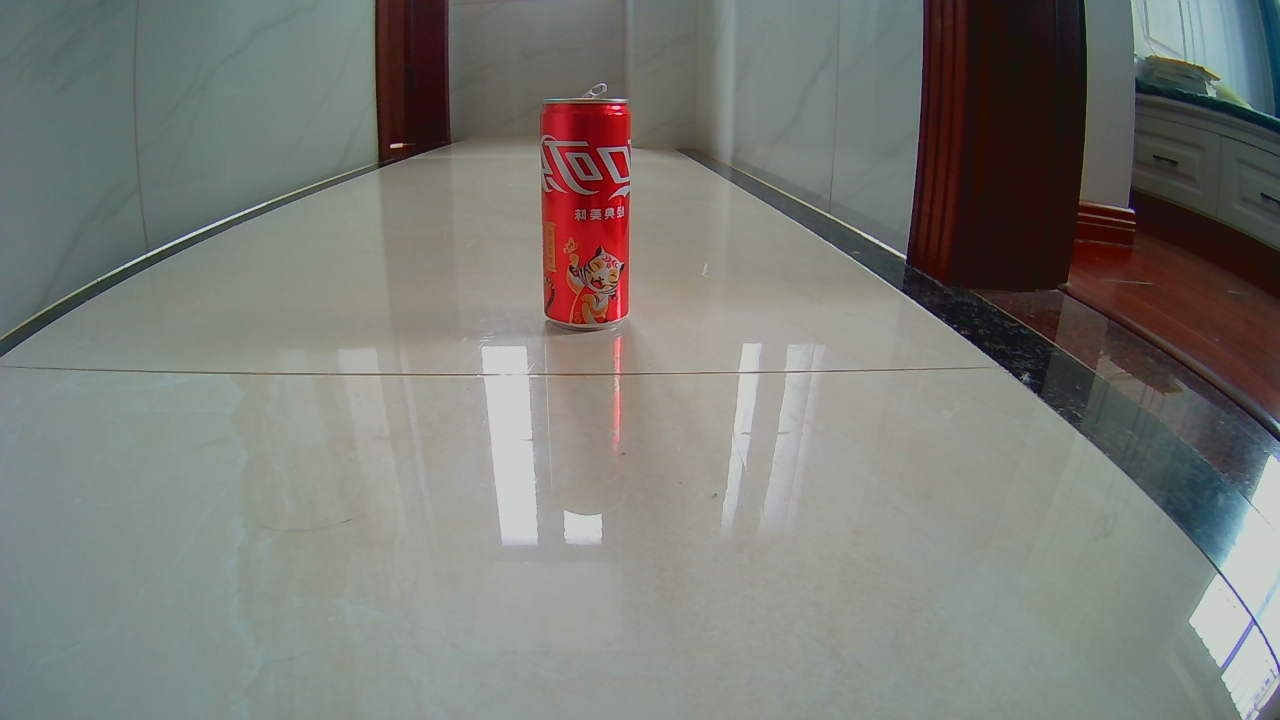cola: (540, 98, 629, 323)
